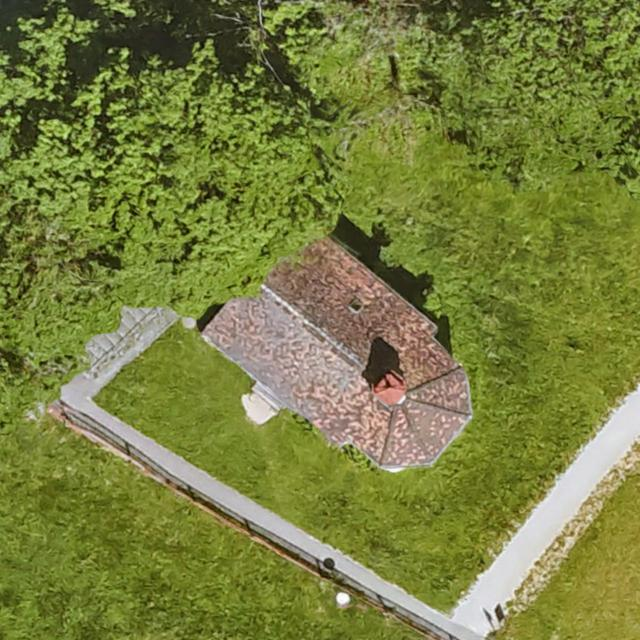tree: (87, 79, 336, 313), (4, 6, 146, 251), (466, 1, 640, 168), (0, 254, 97, 381)
